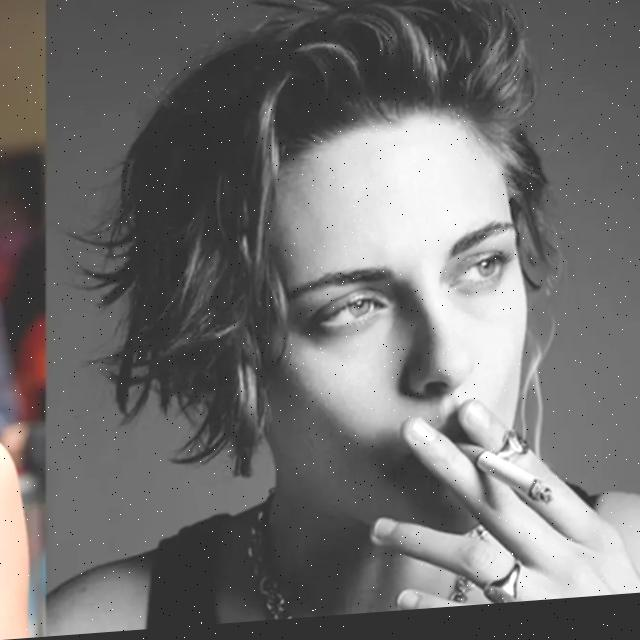cigarette: (456, 446, 554, 521)
